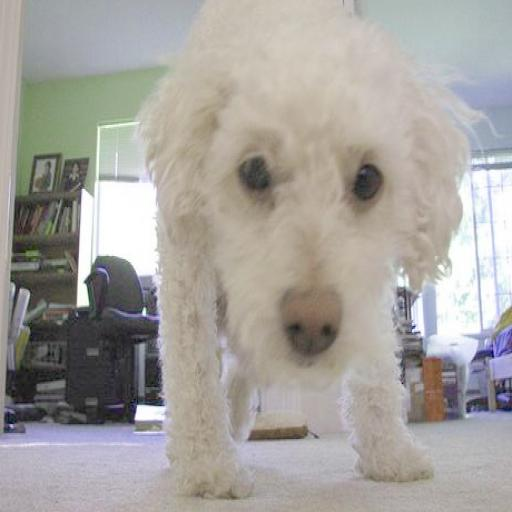dog_face: (139, 0, 456, 383)
